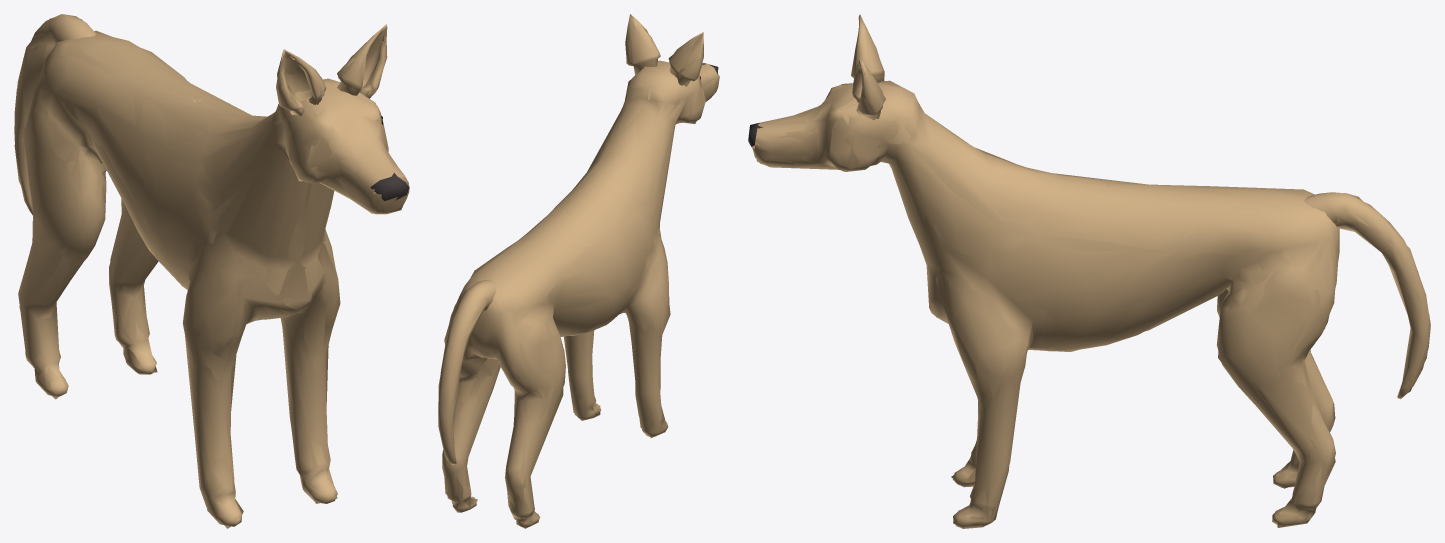
Rendered from dog.glb.
3 renders of one model, left to right at view 1: azimuth 30°, elevation 25°; view 2: azimuth 150°, elevation 25°; view 3: azimuth 270°, elevation 25°, orthographic. The views are drawn at different scales.
Parts seen in each view (by area): view 1: dog_studio (×2); view 2: dog_studio (×2); view 3: dog_studio (×2).
Boxes of the visible parts, x1,y1,x2,y2 form: dog_studio (×2): (14,14,409,528); dog_studio (×2): (438,14,719,528); dog_studio (×2): (748,14,1430,528).
Bounding box in the file's own units: 0.243 × 0.84 × 1.11.
